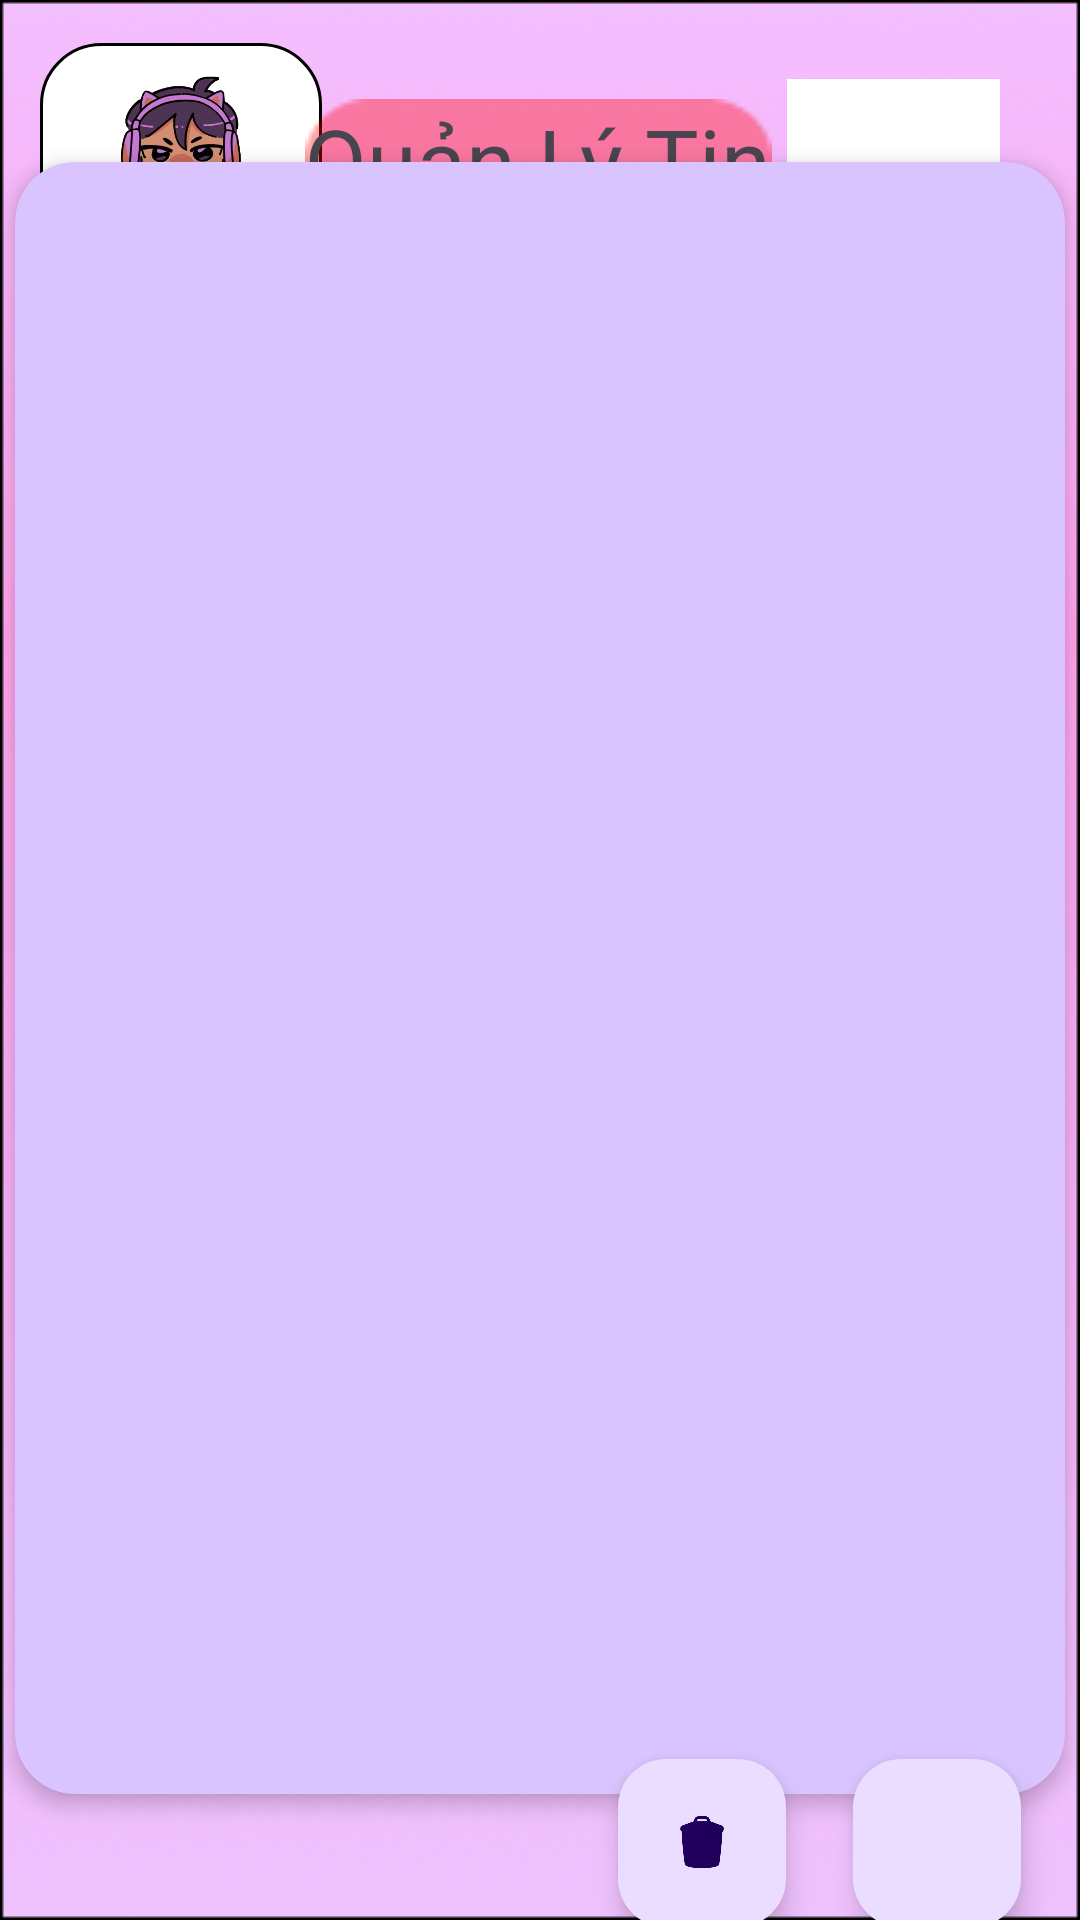

Icons on this 1080px x 1920px Android screen, each with its box as rect(x1, y1, x2, y2):
delete: rect(618, 1759, 786, 1920)
